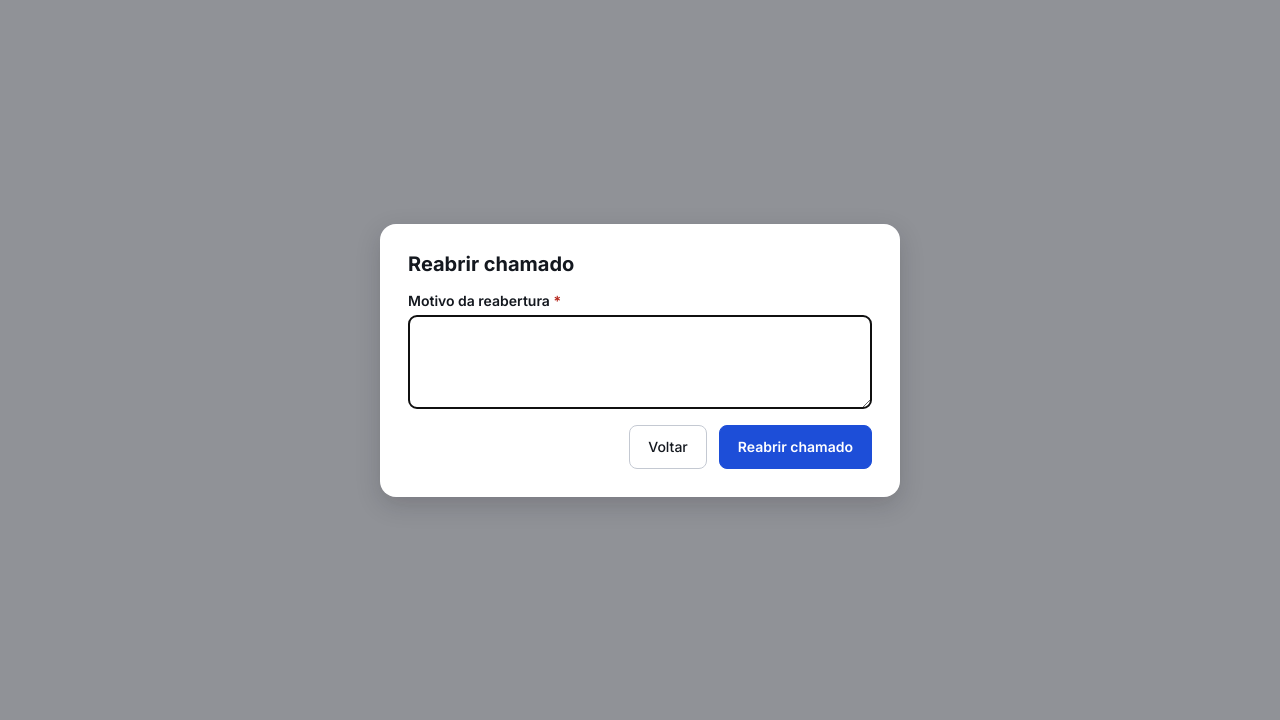
Test case: ReasonDialog › não confirma sem motivo e mostra o erro
Click the button "Reabrir chamado": [795, 446] box 719,424 -> 872,468
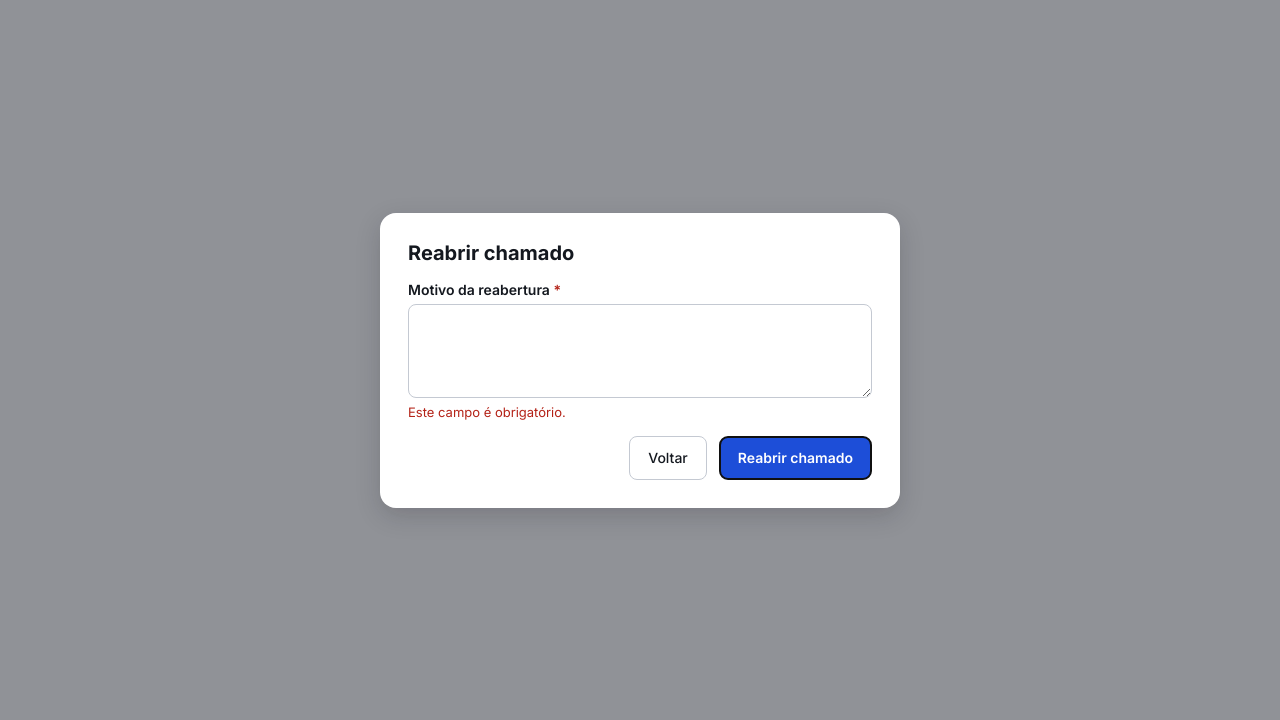
expect the message reads "Este campo é obrigatório.": met, box 408,404 -> 566,420
